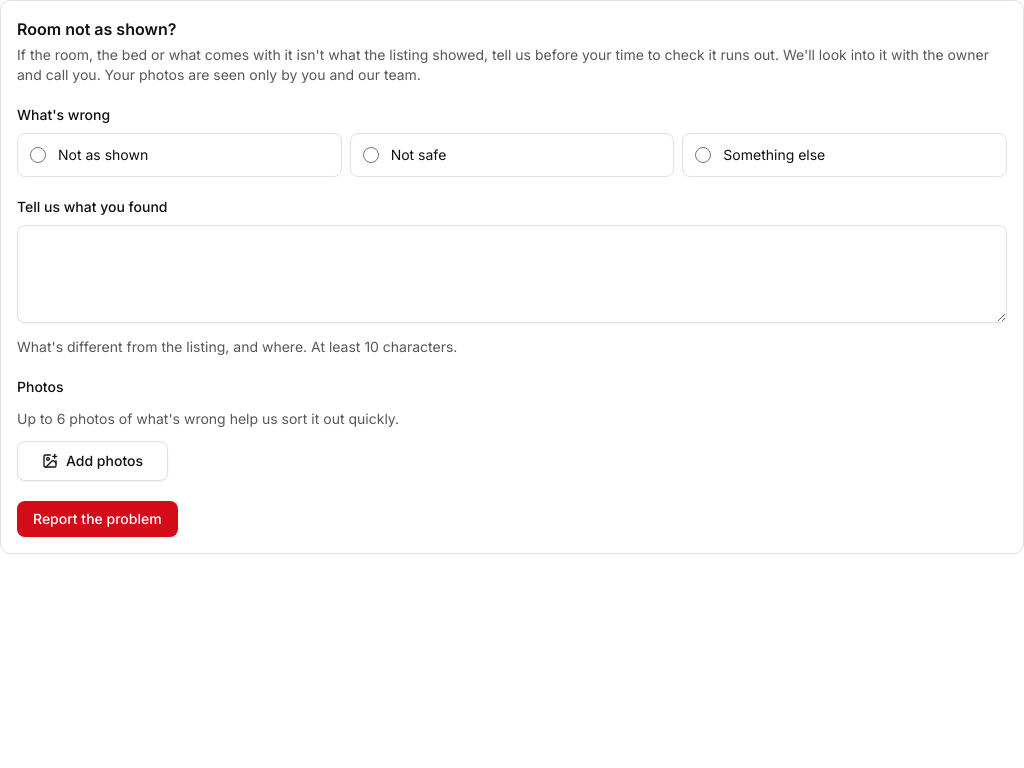
DisputeForm › says when a photo is refused
This screenshot has width=1024, height=768.
Click the radio button labelled "Not as shown": (38,155) [30, 147, 46, 163]
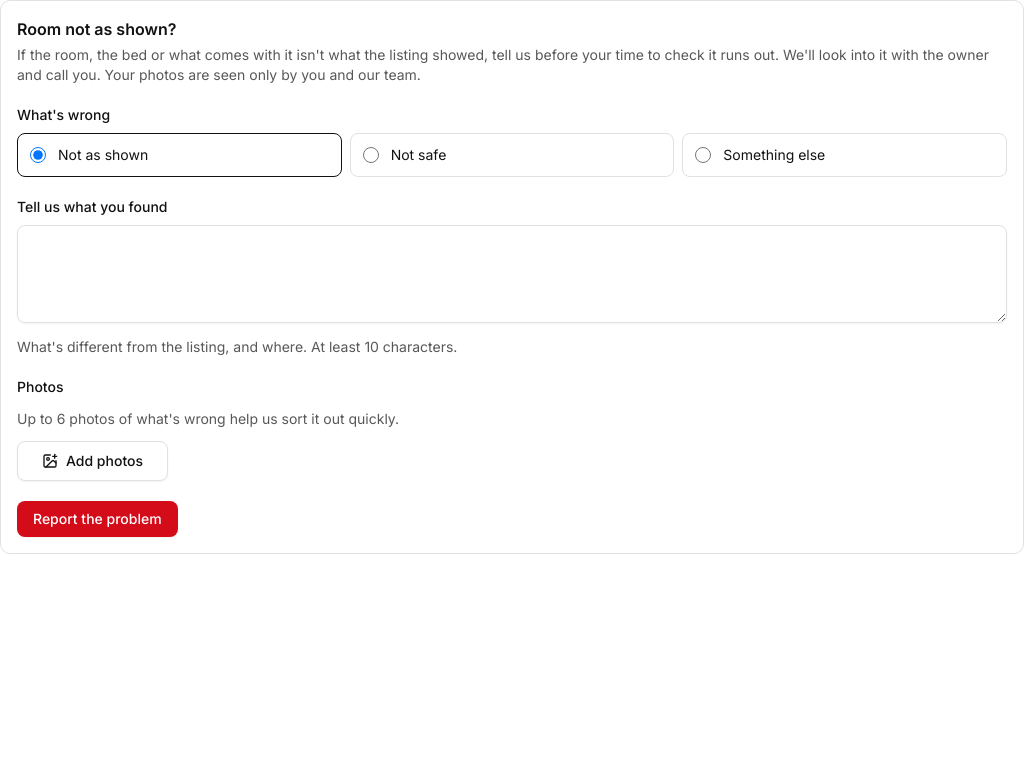
In the text box labelled "Tell us what you found": (512,274) [17, 225, 1007, 323], type "The listing showed a window; the room has none."
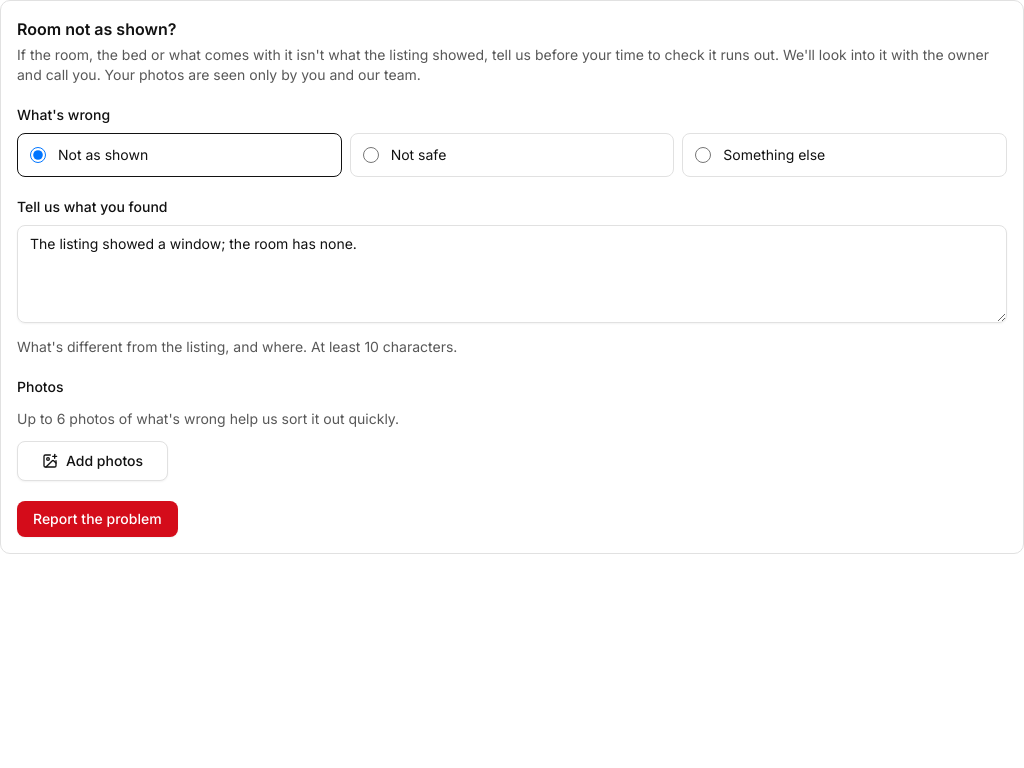
Click the button "Report the problem": (97,519) [17, 501, 178, 537]
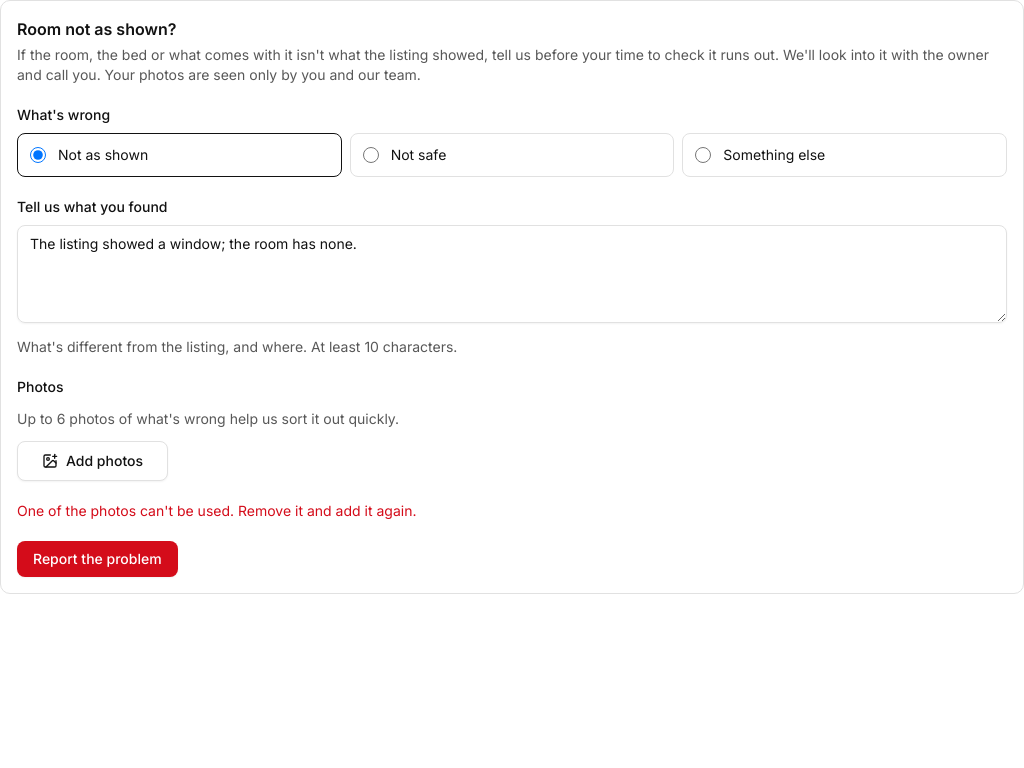
Check: the message reads "One of the photos can't be used. Remove it and add it again.", box [17, 502, 416, 519]
